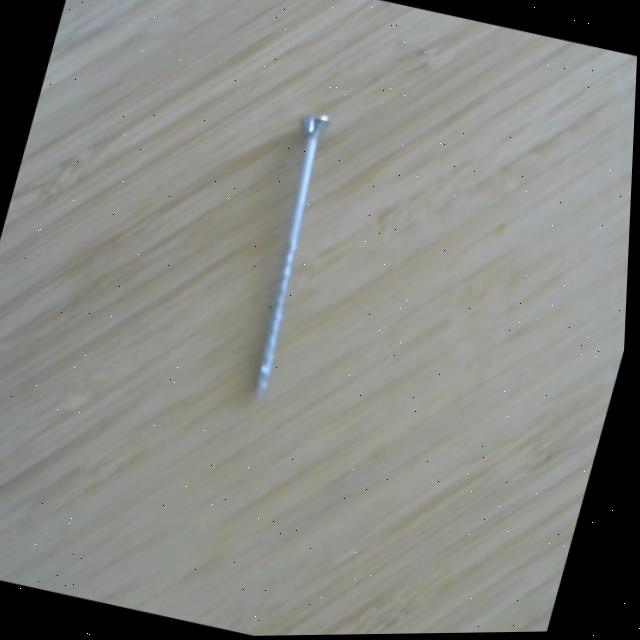Long screw: (252, 111, 339, 400)
